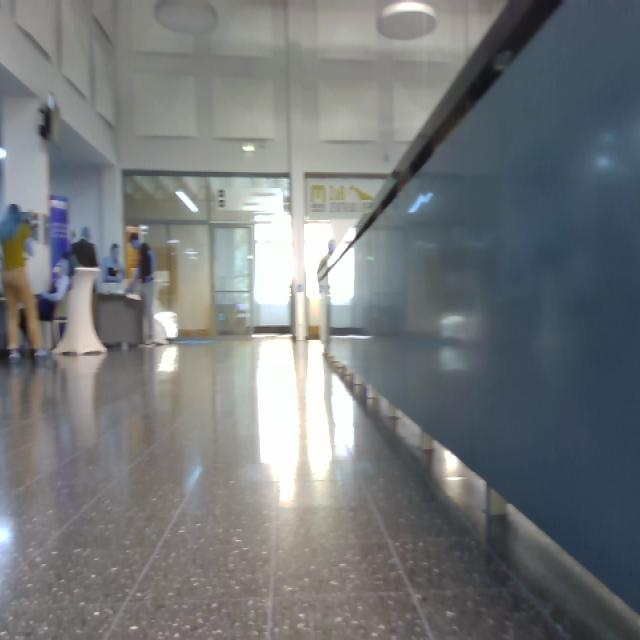desk: (97, 294, 144, 345)
door: (214, 228, 254, 336)
light bulb: (379, 3, 437, 40), (155, 1, 219, 34), (176, 191, 200, 213)
person: (1, 204, 49, 364), (102, 244, 126, 284)
pillar: (5, 98, 50, 215)
staircase: (332, 1, 640, 612)
table: (54, 268, 107, 355)
tiled floor: (1, 336, 640, 639)
